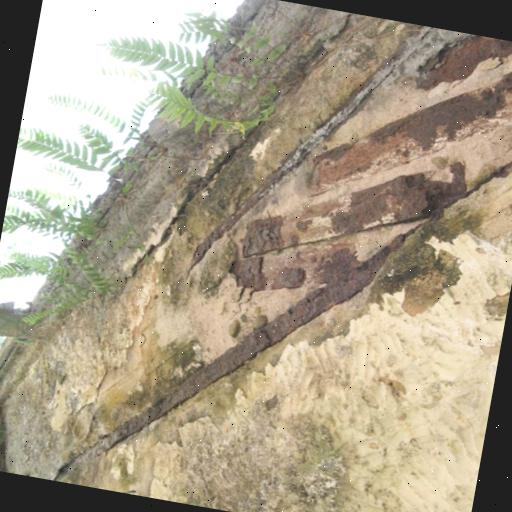spalling: (2, 8, 512, 478)
